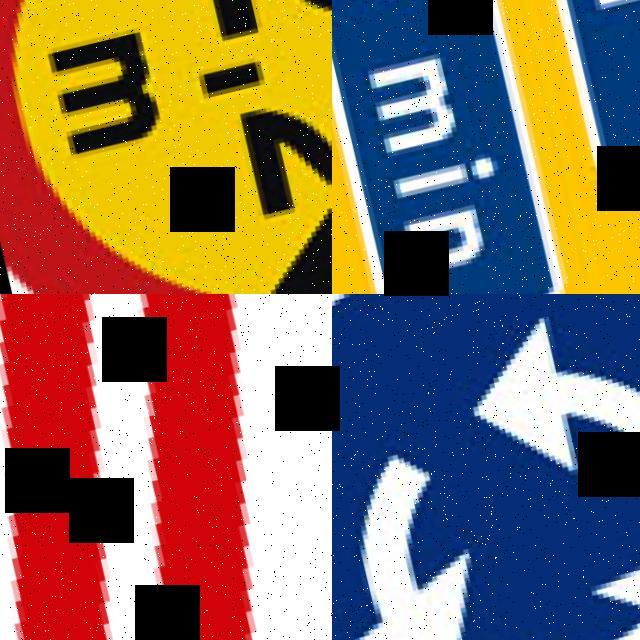16: (332, 294, 640, 640)
8: (0, 0, 332, 294)
Level crossing countdown marker: (0, 294, 332, 640)
Parking allowed for 15min: (332, 0, 640, 294)
Roundabout: (332, 294, 640, 640)
